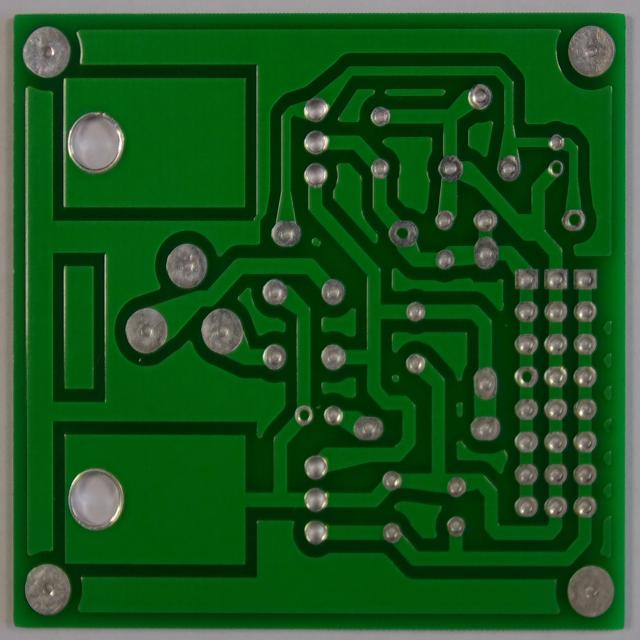missing_hole: (384, 214, 422, 250), (512, 363, 540, 391), (290, 403, 317, 428), (560, 206, 586, 230), (544, 155, 566, 181)
